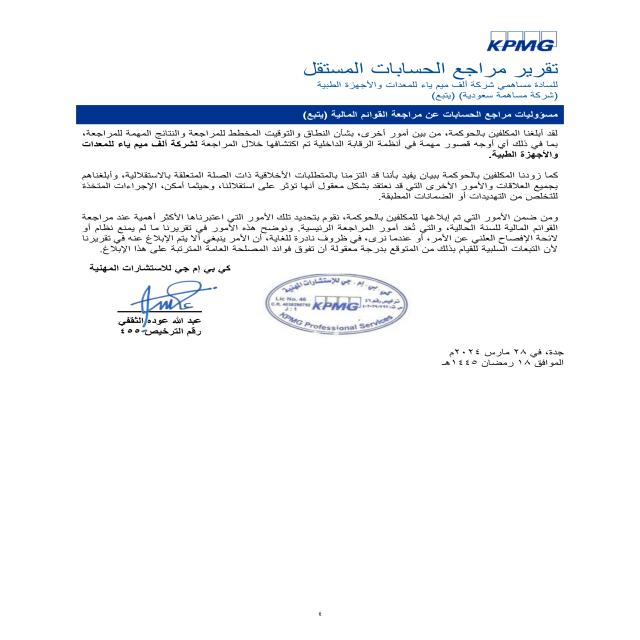auditor_report: (281, 63, 561, 79)
